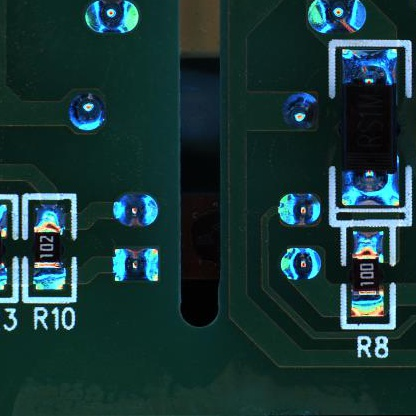spot: (308, 1, 367, 36), (84, 1, 141, 36), (113, 245, 160, 285), (113, 193, 159, 228), (277, 192, 323, 227), (68, 91, 106, 133), (280, 246, 323, 281), (282, 91, 319, 131)
